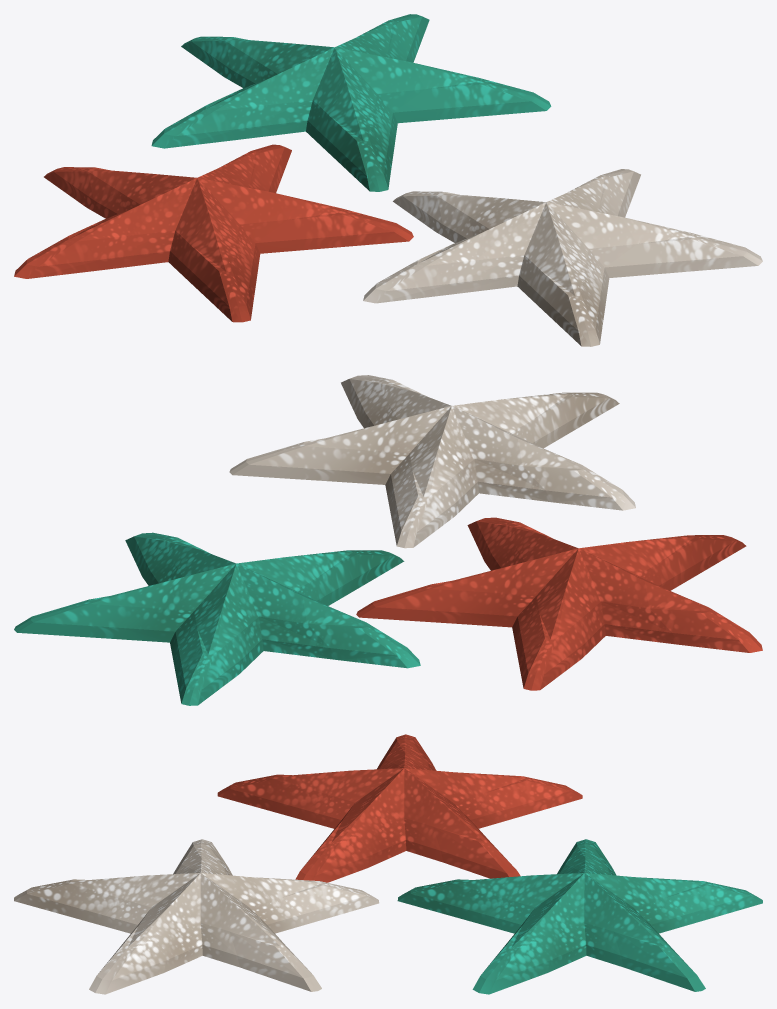
The model's file is Starfish.glb.
The picture shows the model from 3 angles, top to bottom: view 1: azimuth 30°, elevation 25°; view 2: azimuth 150°, elevation 25°; view 3: azimuth 270°, elevation 25°; orthographic projection. The views are drawn at different scales.
Parts seen in each view (by area): view 1: Node; view 2: Node; view 3: Node.
Boxes of the visible parts, x1,y1,x2,y2 form: Node: [14, 14, 762, 346]; Node: [14, 375, 762, 705]; Node: [14, 734, 762, 994].
Bounding box in the file's own units: 8.37 × 0.7612 × 10.31.
3 materials, 3 textured.
